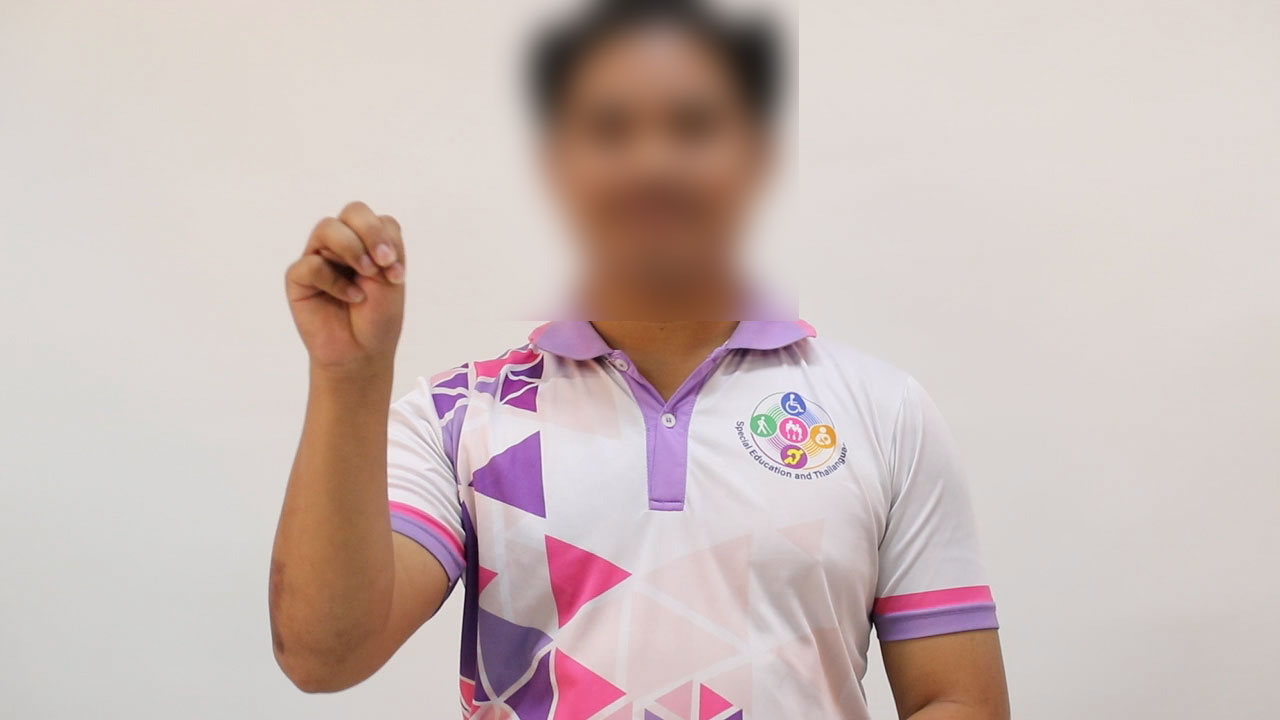mor: (264, 181, 434, 383)
